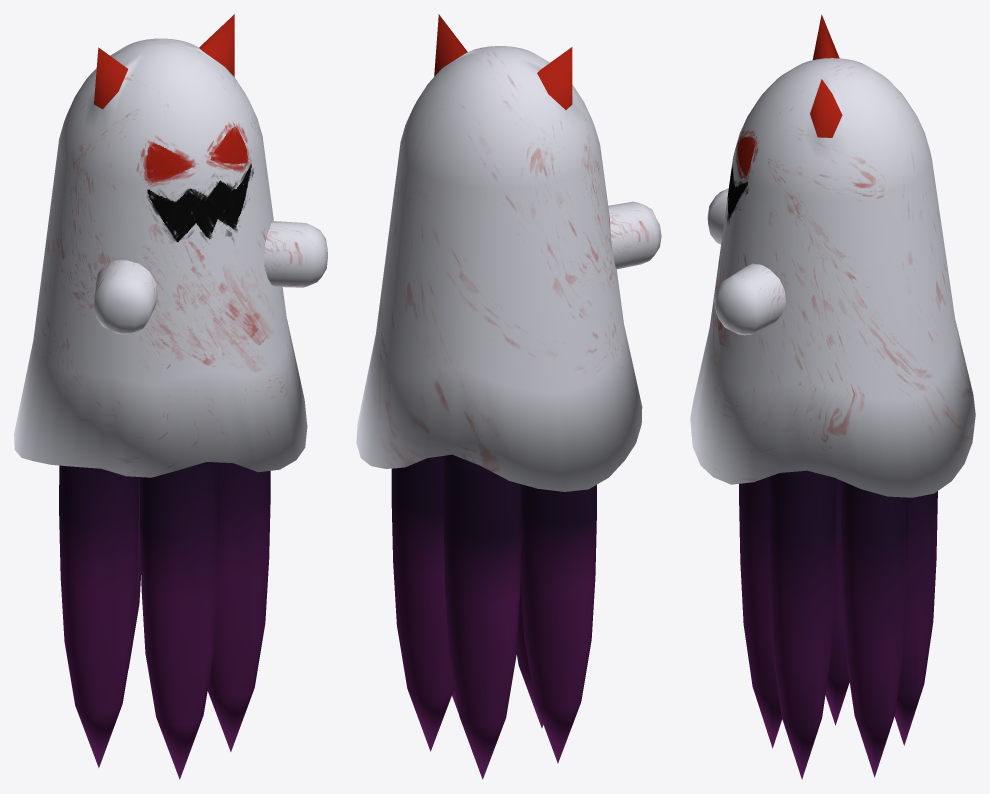
The model's file is Boss.fbx.
3 renders of one model, left to right at view 1: azimuth 30°, elevation 25°; view 2: azimuth 150°, elevation 25°; view 3: azimuth 270°, elevation 25°, orthographic. The views are drawn at different scales.
Visible parts, largest first — view 1: FantasmaChefao; view 2: FantasmaChefao; view 3: FantasmaChefao.
Part boxes in pixels (<box>): FantasmaChefao: <box>14,14,327,779</box>; FantasmaChefao: <box>356,14,661,779</box>; FantasmaChefao: <box>690,14,975,779</box>.
Bounding box in the file's own units: 465 × 1277 × 466.
